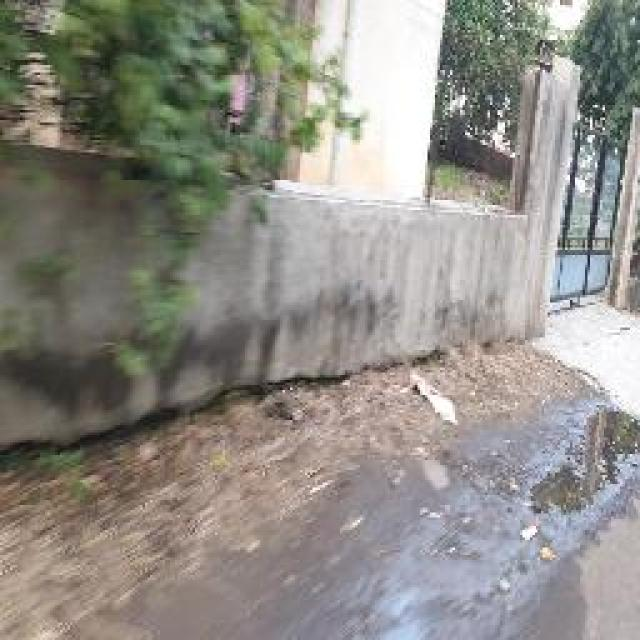puddle: (526, 402, 639, 531)
